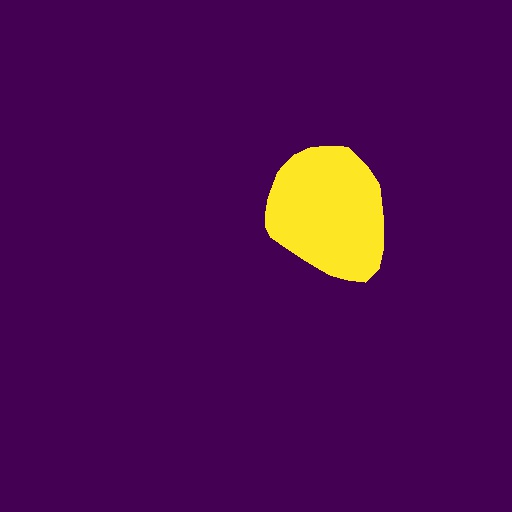Gliomia_tumour: (265, 146, 384, 283)
